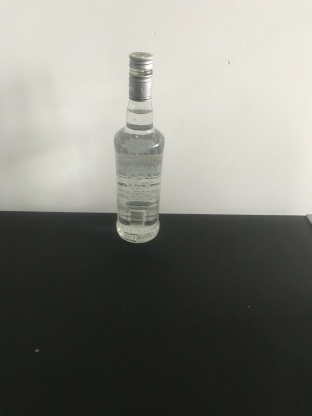nakretka: (127, 49, 154, 103)
